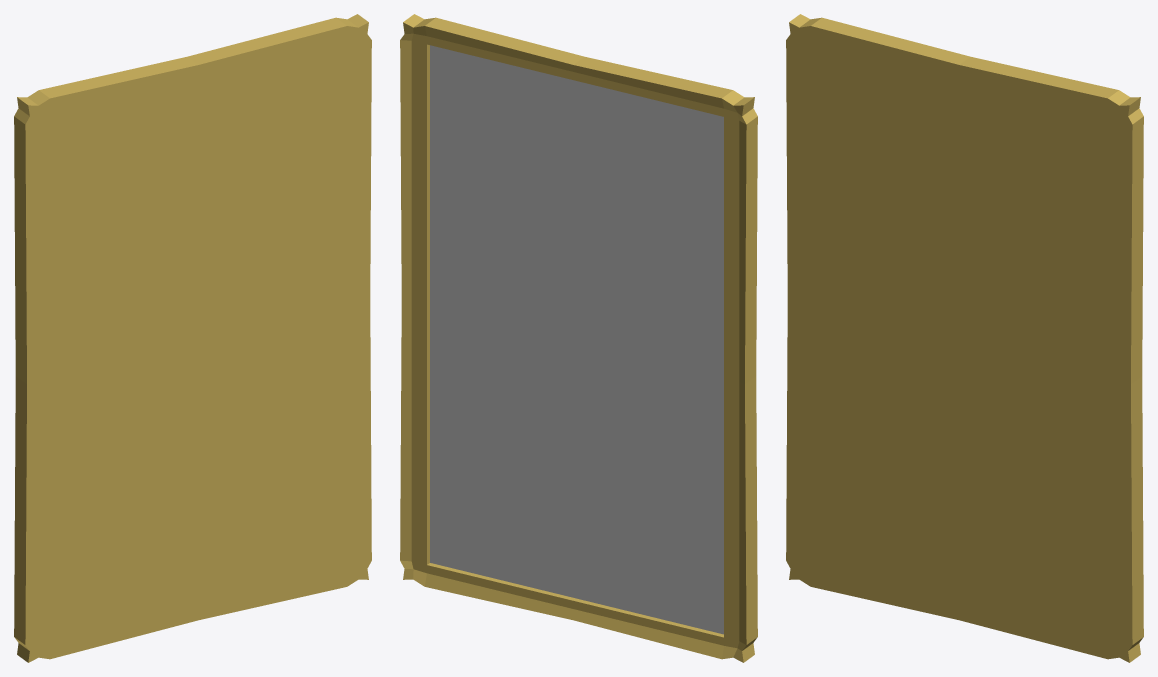
Rendered from Pictureframe_Rect.fbx.
3 views of the same model, side by side, from view 1: azimuth 30°, elevation 25°; view 2: azimuth 150°, elevation 25°; view 3: azimuth 330°, elevation 25° (orthographic).
Parts seen in each view (by area): view 1: Cube; view 2: Cube; view 3: Cube.
Part boxes in pixels (x1,y1,x2,y2): Cube: [14, 14, 371, 662]; Cube: [400, 14, 757, 662]; Cube: [786, 14, 1143, 662].
Size of the model in its own units: 197 by 304 by 11.16.
